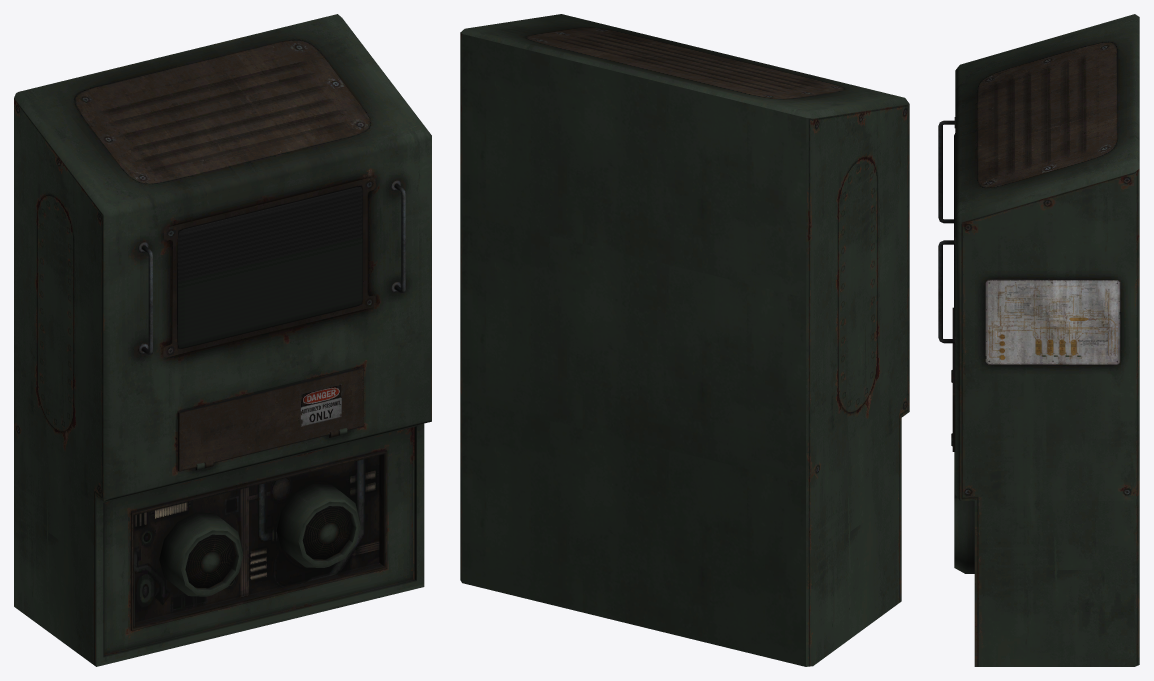
The model's file is terminal_control_unit_large_online.dae.
3 views of the same model, side by side, from view 1: azimuth 30°, elevation 25°; view 2: azimuth 150°, elevation 25°; view 3: azimuth 270°, elevation 25° (orthographic). The views are drawn at different scales.
Parts seen in each view (by area): view 1: polySurface60, polySurface61; view 2: polySurface60; view 3: polySurface60, polySurface61.
Part boxes in pixels (<box>): polySurface60: <box>14,14,431,666</box>; polySurface61: <box>178,187,362,348</box>; polySurface60: <box>460,14,909,666</box>; polySurface60: <box>938,14,1139,666</box>; polySurface61: <box>954,133,955,332</box>.
Bounding box in the file's own units: 1.45 × 2.16 × 0.7887.
